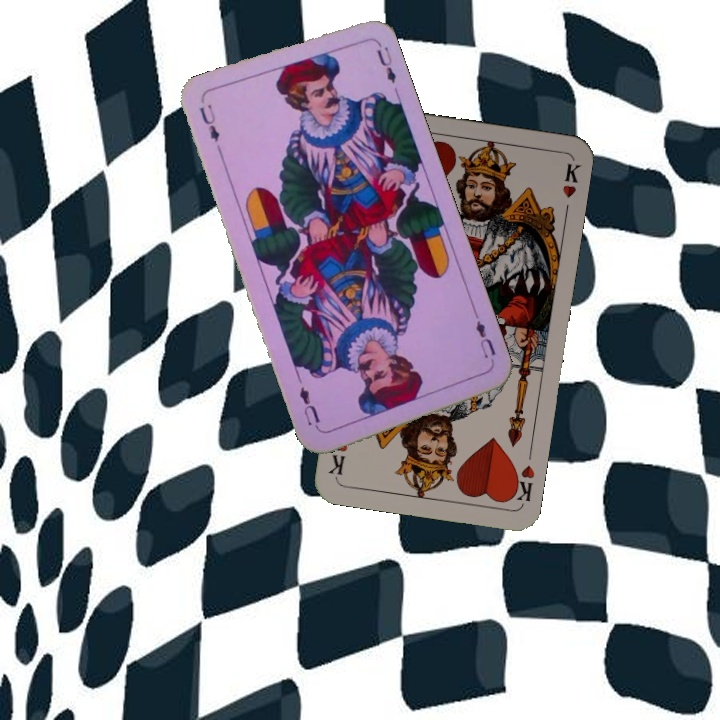EU: (195, 100, 225, 156), (471, 310, 498, 361)
HK: (506, 461, 538, 506)
